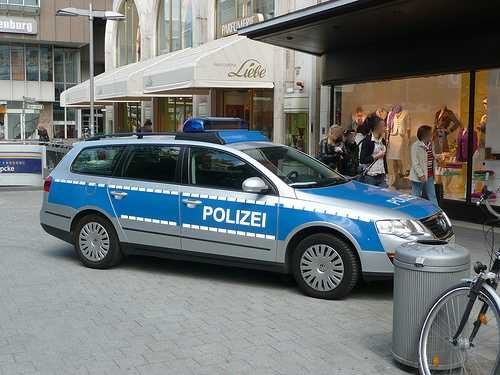Police Car: (32, 96, 462, 314)
